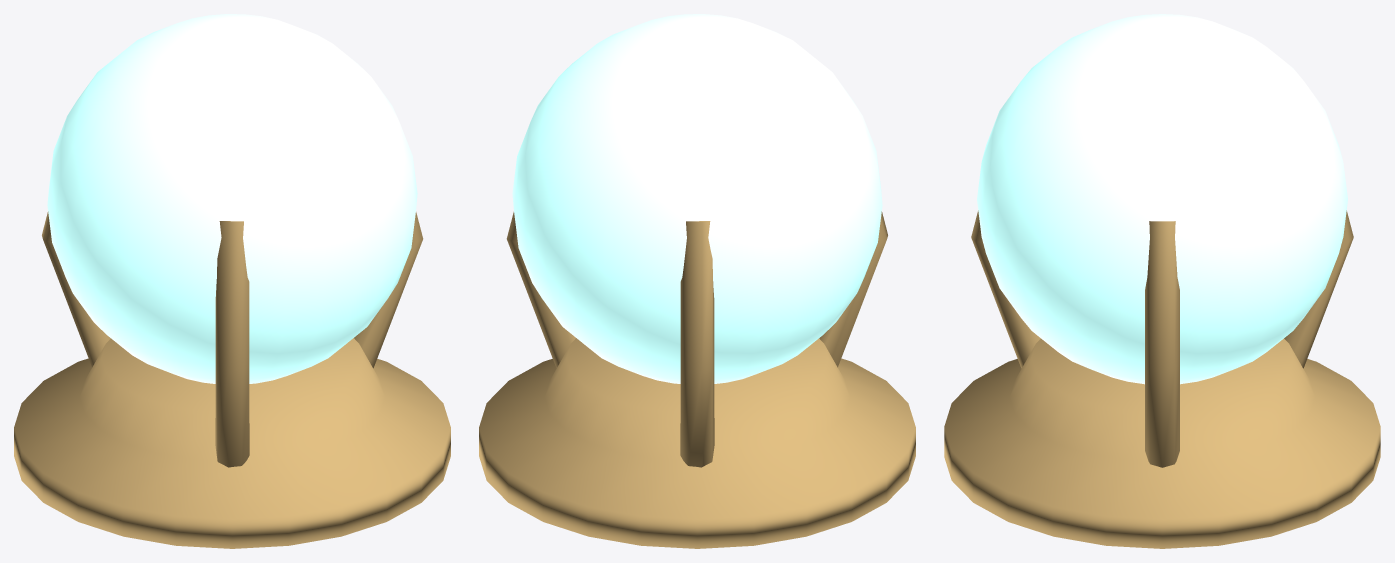
Rendered from Crystal_Ball.fbx.
The picture shows the model from 3 angles, left to right: view 1: azimuth 30°, elevation 25°; view 2: azimuth 150°, elevation 25°; view 3: azimuth 270°, elevation 25°; orthographic projection.
Parts seen in each view (by area): view 1: Crystal_Ball_Mesh; view 2: Crystal_Ball_Mesh; view 3: Crystal_Ball_Mesh.
Boxes of the visible parts, bbox=[...] form: Crystal_Ball_Mesh: bbox=[14, 14, 450, 548]; Crystal_Ball_Mesh: bbox=[479, 14, 915, 548]; Crystal_Ball_Mesh: bbox=[944, 14, 1380, 548].
Size of the model in its own units: 0.2 by 0.215 by 0.2.
